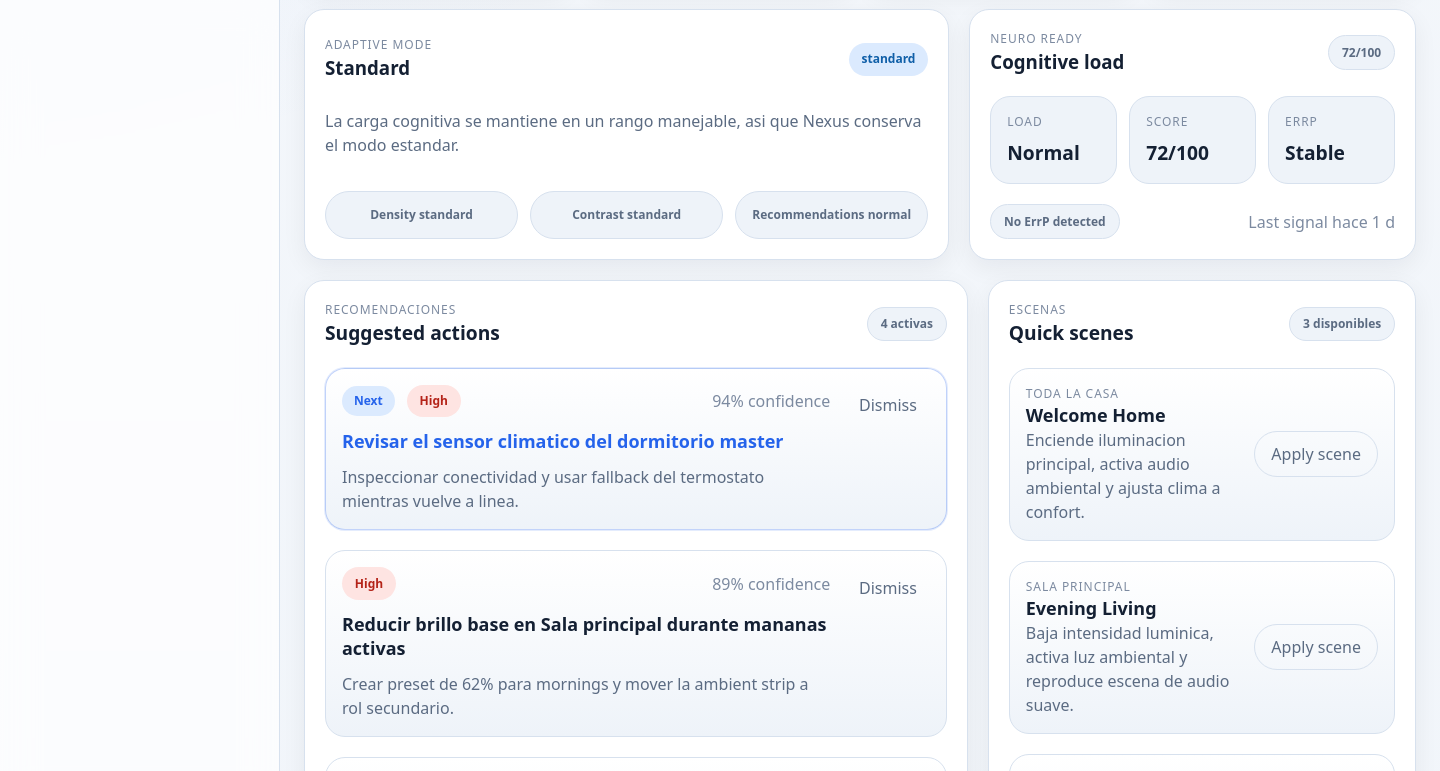
Test case: App › permite dismiss de recomendaciones y acciones activas en devices
(page scrolled)
What coordinates should you click on to do the following:
click the button with aria-label "Descartar recomendacion"
I would click on:
 (888, 405)
Its box is [846,385,930,426].
(page scrolled)
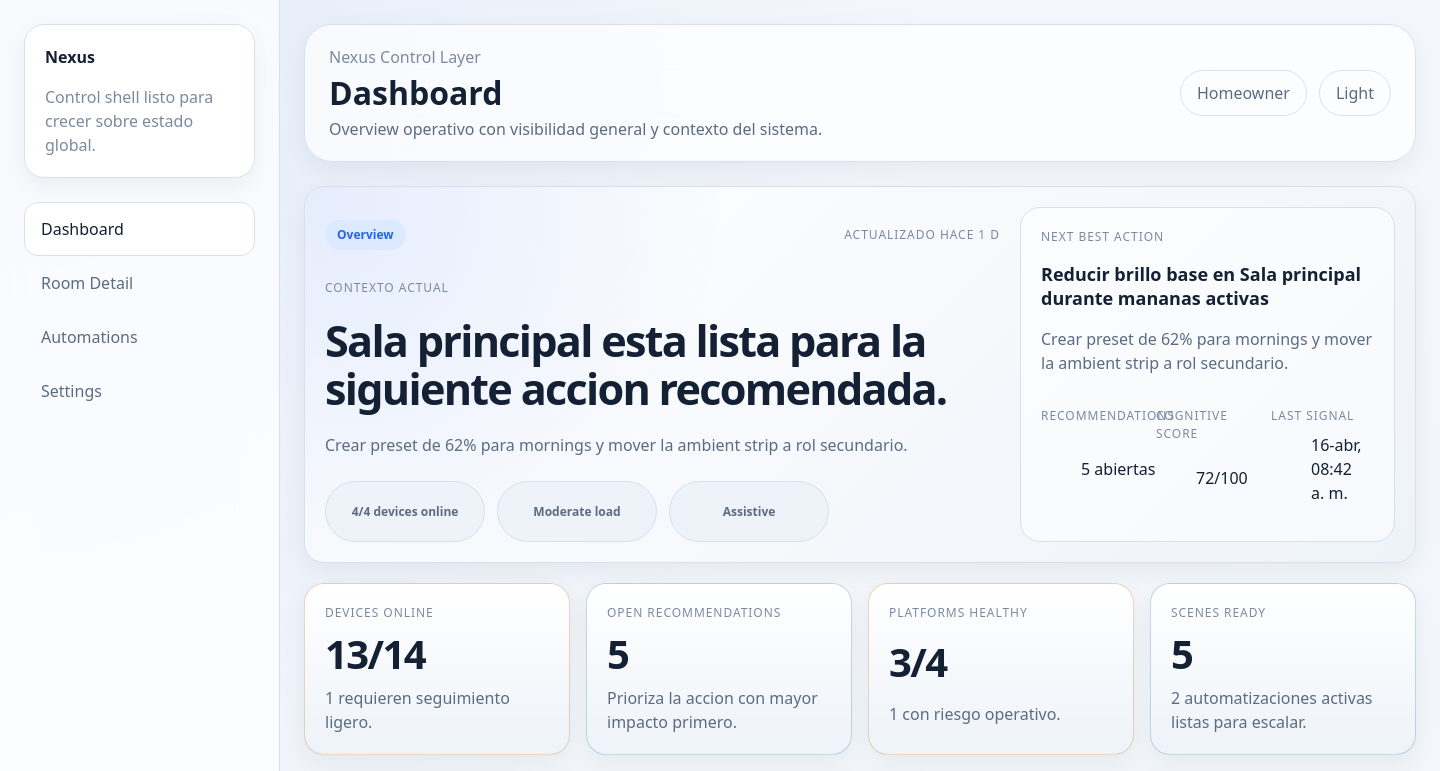
What coordinates should you click on to do the following:
click the button with aria-label "Ir a Room Detail"
I would click on:
 (140, 283)
Its box is [24,256,255,310].
(page scrolled)
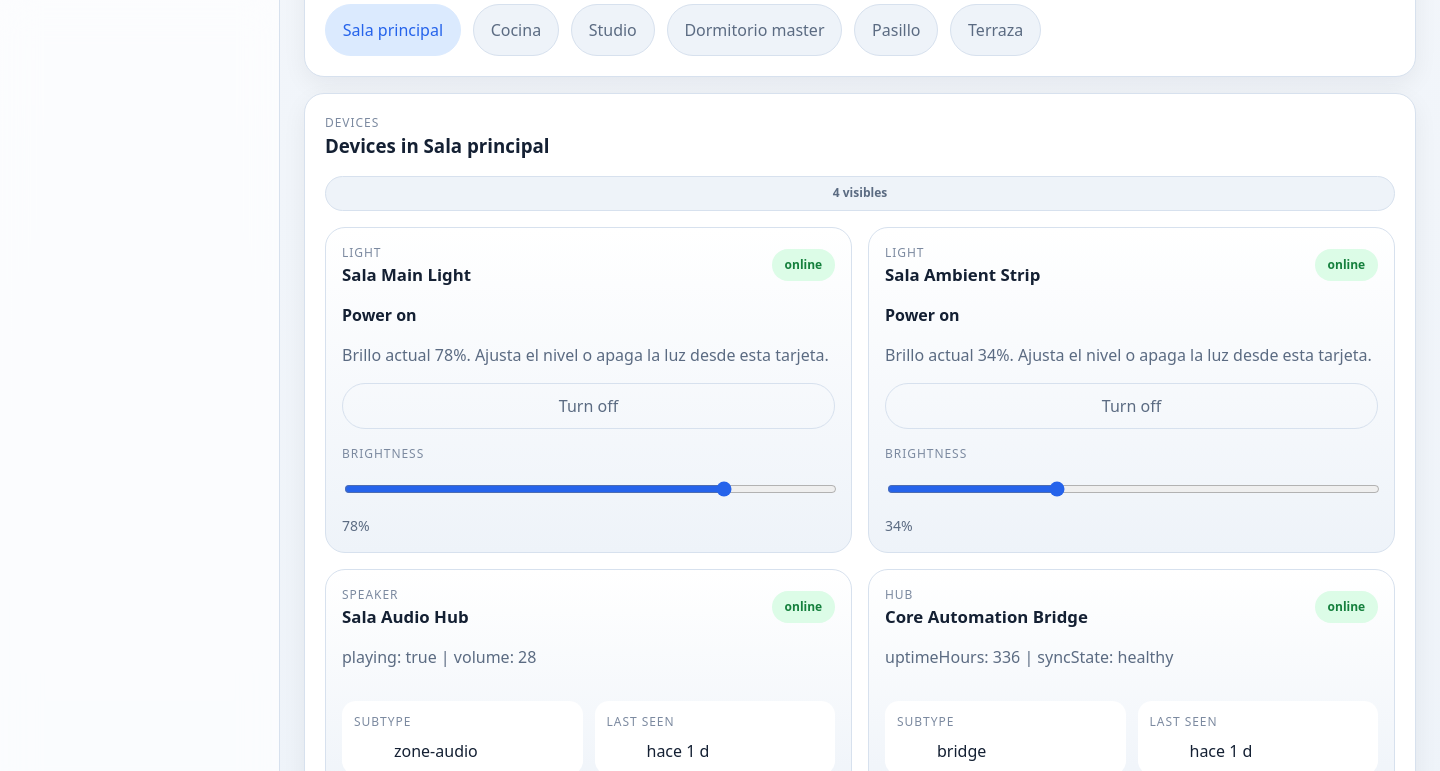
What coordinates should you click on to do the following:
click the button with aria-label "Apagar Sala Main Light"
I would click on:
 (588, 406)
Its box is [342,383,835,429].
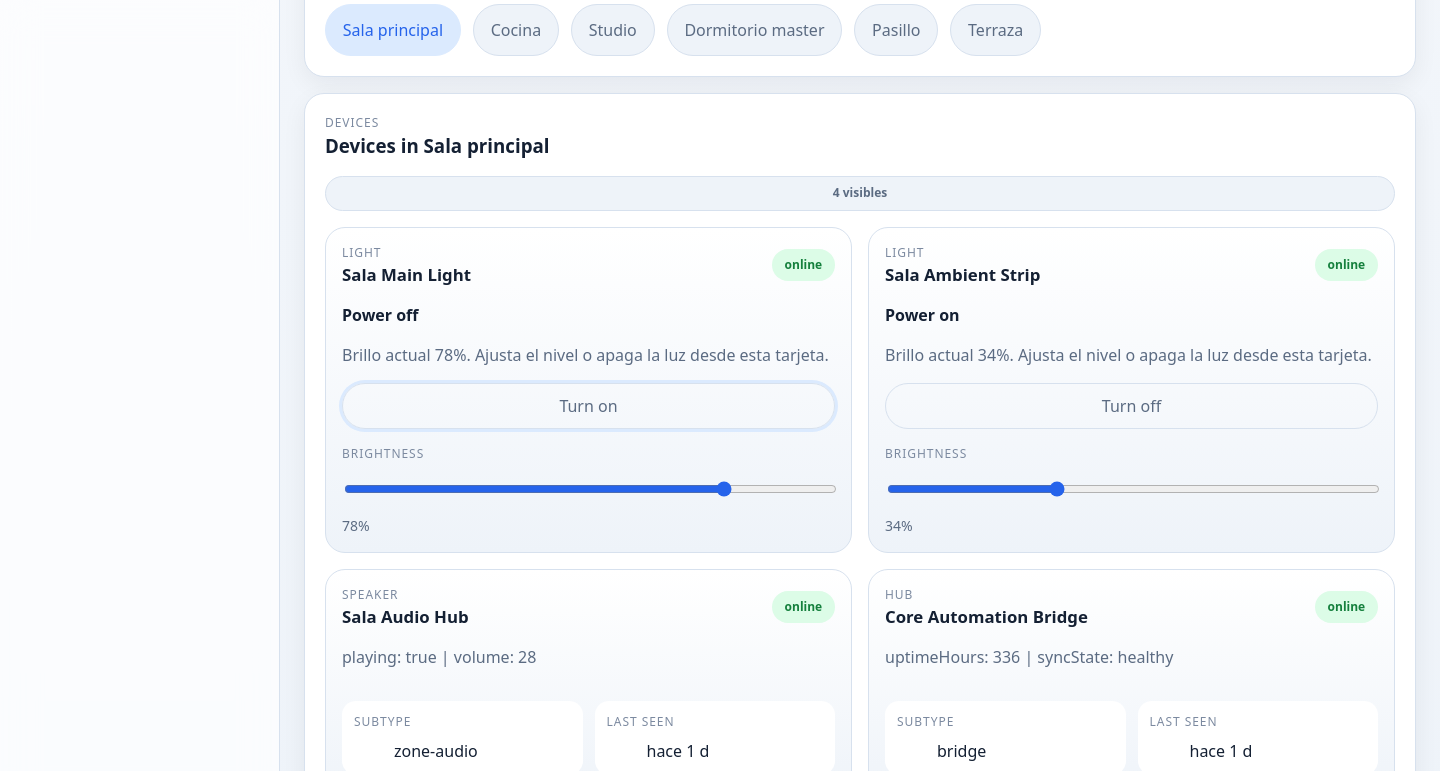
Expected: the text "Power off" is shown, [342,304,418,326]
